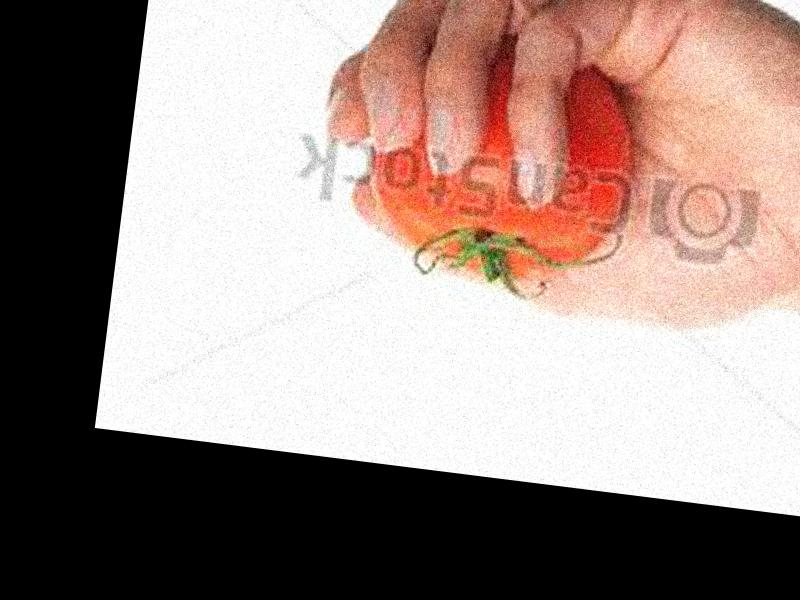Tomato: (360, 29, 638, 290)
